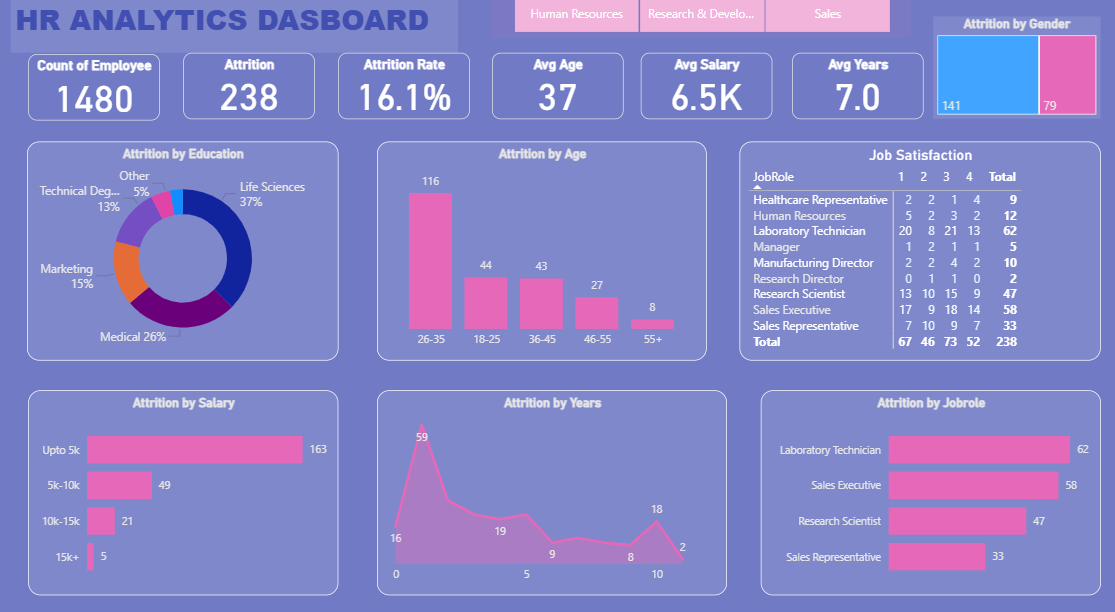

Layout of this report page (visuals, bound fields, positions):
{"tool":"powerbi","page":{"name":"Page 1","canvas":[1280,720],"ordinal":0},"visuals":[{"type":"card","title":"Count of Employee","fields":{"Values":["CountNonNull(HR_Analytics.ï»¿EmpID)"]},"box":[35.7,74.3,150,75.7],"z":0},{"type":"card","title":"Attrition Rate","fields":{"Values":["HR_Analytics.AttritionRate"]},"box":[390,72.9,150,75.7],"z":1000},{"type":"card","title":"Attrition","fields":{"Values":["Sum(HR_Analytics.AttritionCount)"]},"box":[212.9,72.9,150,75.7],"z":2000},{"type":"card","title":"Avg Age","fields":{"Values":["Avg(HR_Analytics.Age)"]},"box":[565.7,72.9,150,75.7],"z":3000},{"type":"card","title":"Avg Years","fields":{"Values":["Avg(HR_Analytics.YearsAtCompany)"]},"box":[908.6,72.9,150,75.7],"z":4000},{"type":"card","title":"Avg Salary","fields":{"Values":["Avg(HR_Analytics.MonthlyIncome)"]},"box":[735.7,72.9,150,75.7],"z":5000},{"type":"donutChart","title":"Attrition by Education","fields":{"Category":["HR_Analytics.EducationField"],"Y":["Sum(HR_Analytics.AttritionCount)"]},"box":[34.3,174.3,355.7,250],"z":6000},{"type":"columnChart","title":"Attrition by Age","fields":{"Category":["HR_Analytics.AgeGroup"],"Y":["Sum(HR_Analytics.AttritionCount)"]},"box":[434.3,174.3,377.1,250],"z":7000},{"type":"pivotTable","title":"Job Satisfaction","fields":{"Rows":["HR_Analytics.JobRole"],"Values":["Sum(HR_Analytics.AttritionCount)"],"Columns":["HR_Analytics.JobSatisfaction"]},"box":[848.6,174.3,412.9,250],"z":8000},{"type":"barChart","title":"Attrition by Salary","fields":{"Category":["HR_Analytics.SalarySlab"],"Y":["Sum(HR_Analytics.AttritionCount)"]},"box":[35.7,458.6,354.3,234.3],"z":9000},{"type":"barChart","title":"Attrition by Jobrole","fields":{"Category":["HR_Analytics.JobRole"],"Y":["Sum(HR_Analytics.AttritionCount)"]},"box":[872.9,458.6,388.6,234.3],"z":10000},{"type":"areaChart","title":"Attrition by Years","fields":{"Category":["HR_Analytics.YearsAtCompany"],"Y":["Sum(HR_Analytics.AttritionCount)"]},"box":[434.3,458.6,400,234.3],"z":11000},{"type":"treemap","title":"Attrition by Gender","fields":{"Group":["HR_Analytics.Gender"],"Values":["Sum(HR_Analytics.AttritionCount)"]},"box":[1070,31.4,191.4,117.1],"z":12000},{"type":"slicer","fields":{"Values":["HR_Analytics.Department"]},"box":[565.7,0,478.6,55.7],"z":13000},{"type":"textbox","box":[15.7,7.1,511.4,65.7],"z":13001}]}

Visuals, with their boxes in screenshot pixels (x1, y1, x2, y2), scaled from the page's 1280x720 canvas onto the 1115x612 screenshot:
"Count of Employee" card: rect(31, 63, 162, 128)
"Attrition Rate" card: rect(340, 62, 470, 126)
"Attrition" card: rect(185, 62, 316, 126)
"Avg Age" card: rect(493, 62, 623, 126)
"Avg Years" card: rect(791, 62, 922, 126)
"Avg Salary" card: rect(641, 62, 772, 126)
"Attrition by Education" donutChart: rect(30, 148, 340, 361)
"Attrition by Age" columnChart: rect(378, 148, 707, 361)
"Job Satisfaction" pivotTable: rect(739, 148, 1099, 361)
"Attrition by Salary" barChart: rect(31, 390, 340, 589)
"Attrition by Jobrole" barChart: rect(760, 390, 1099, 589)
"Attrition by Years" areaChart: rect(378, 390, 727, 589)
"Attrition by Gender" treemap: rect(932, 27, 1099, 126)
slicer - HR_Analytics.Department: rect(493, 0, 910, 47)
textbox: rect(14, 6, 459, 62)
